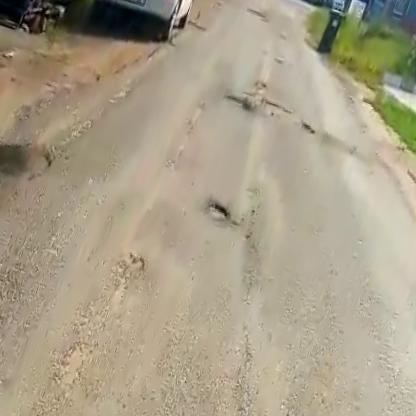pothole: (200, 195, 240, 230)
